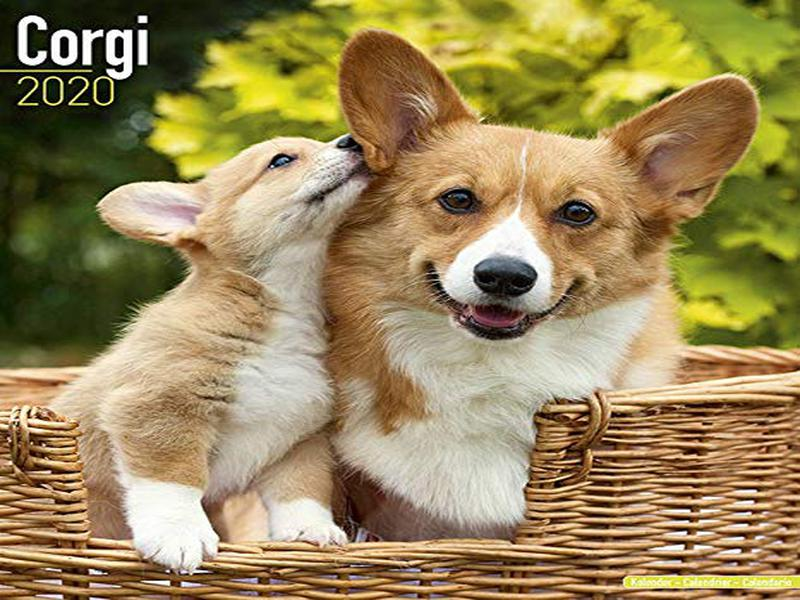corgi: (336, 28, 762, 339)
